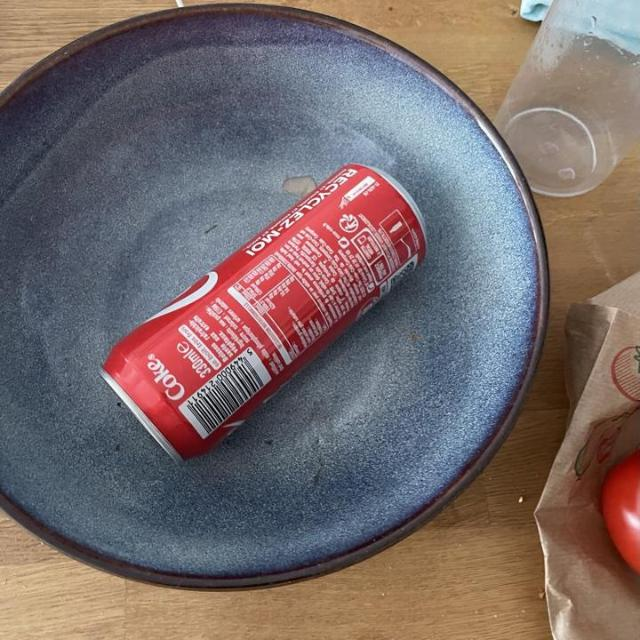can: (95, 158, 431, 466)
